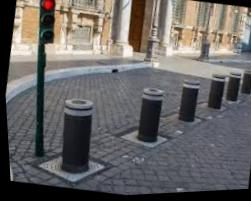Animal: (46, 95, 97, 177), (130, 84, 163, 139), (172, 75, 206, 126), (202, 72, 227, 111)
